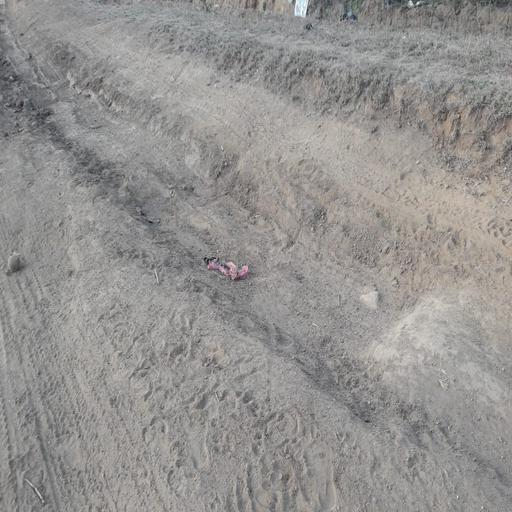vehicle_track: (0, 10, 512, 492), (19, 0, 512, 273), (0, 153, 166, 512)
